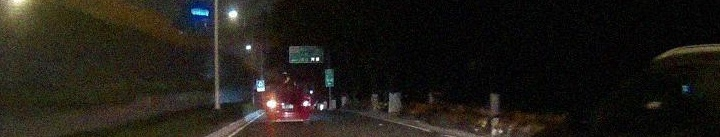L_light: (267, 101, 277, 107)
R_light: (302, 100, 311, 107)
T_light: (288, 92, 295, 94)
night-left: (266, 89, 312, 127)
